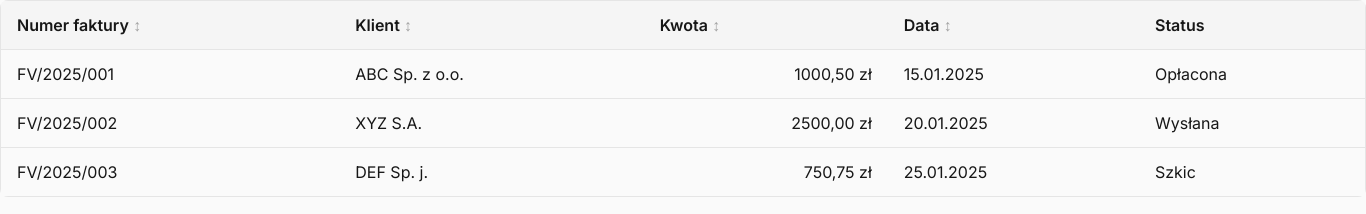
Test: Table Component › Sorting › toggles sort direction on repeated clicks
// First click - ascending
Click the button with aria-label "Sortuj według Klient". click: (384,25)
box: [355,13,412,37]
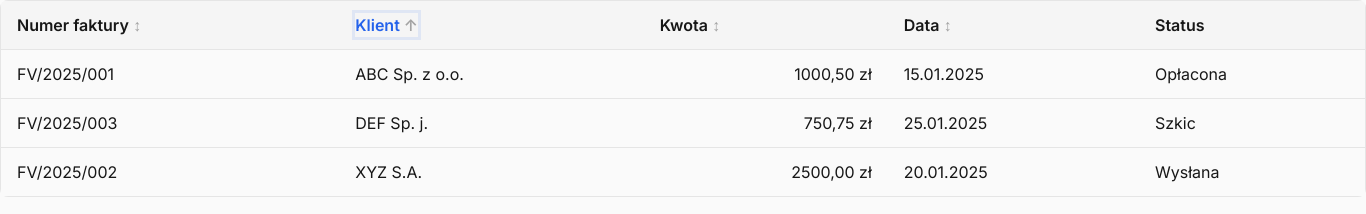
Expected: the button with aria-label "Sortuj według Klient" shows "↑"
// Second click - descending
Click the button with aria-label "Sortuj według Klient". click: (387,25)
box: [355,13,418,37]
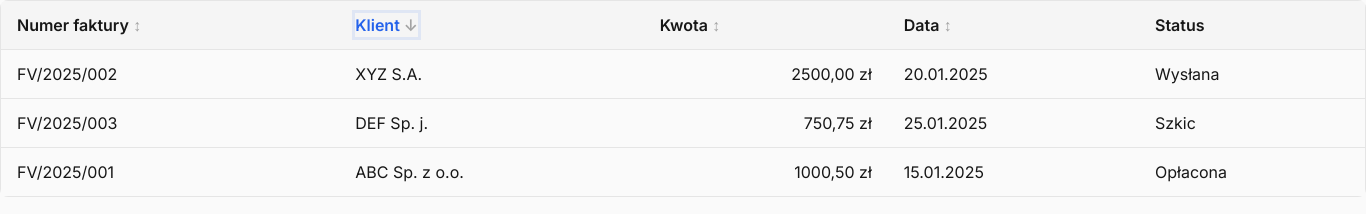
Expected: the button with aria-label "Sortuj według Klient" shows "↓", [355,13,418,37]
